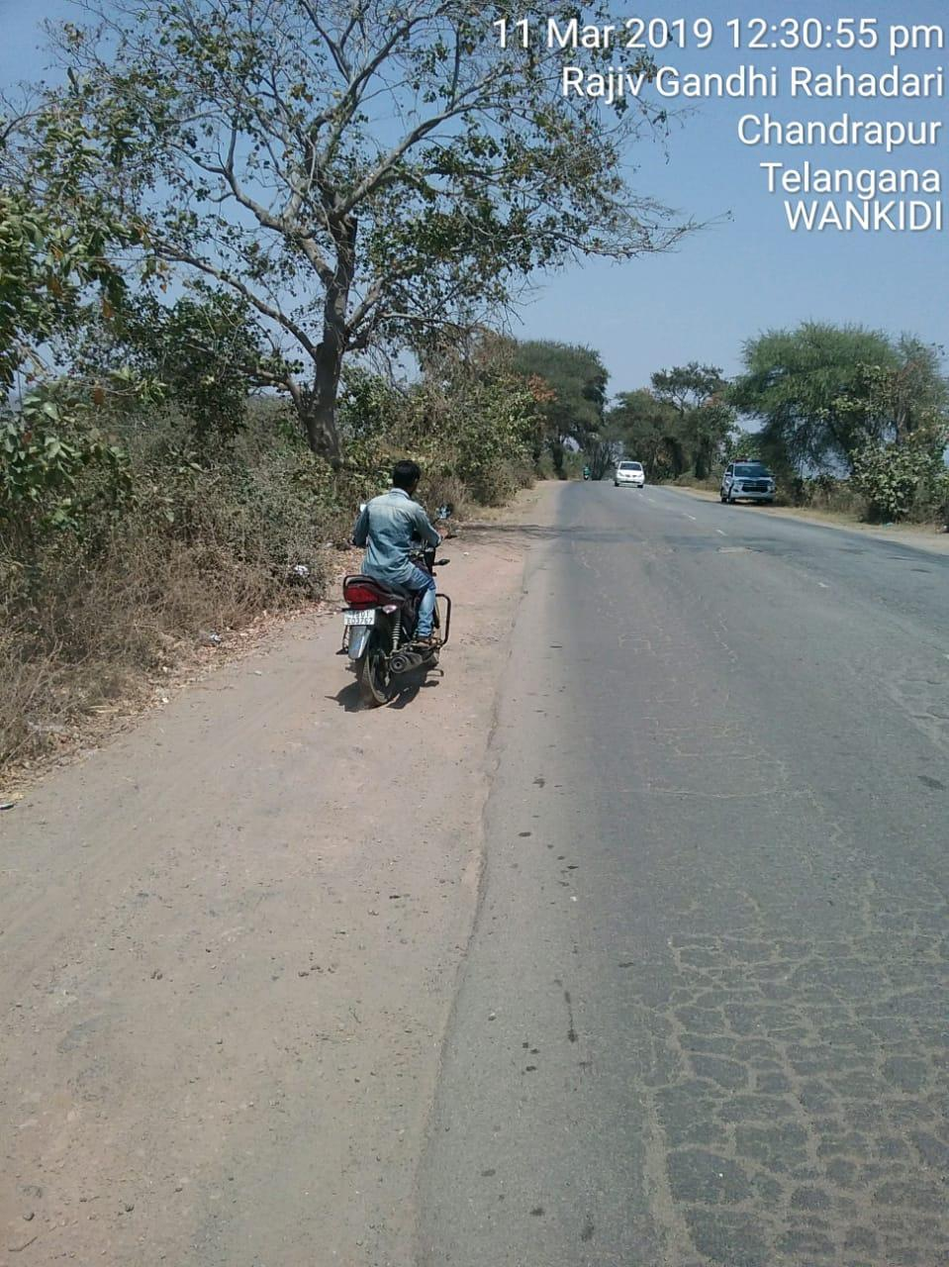plate: (340, 607, 377, 628)
